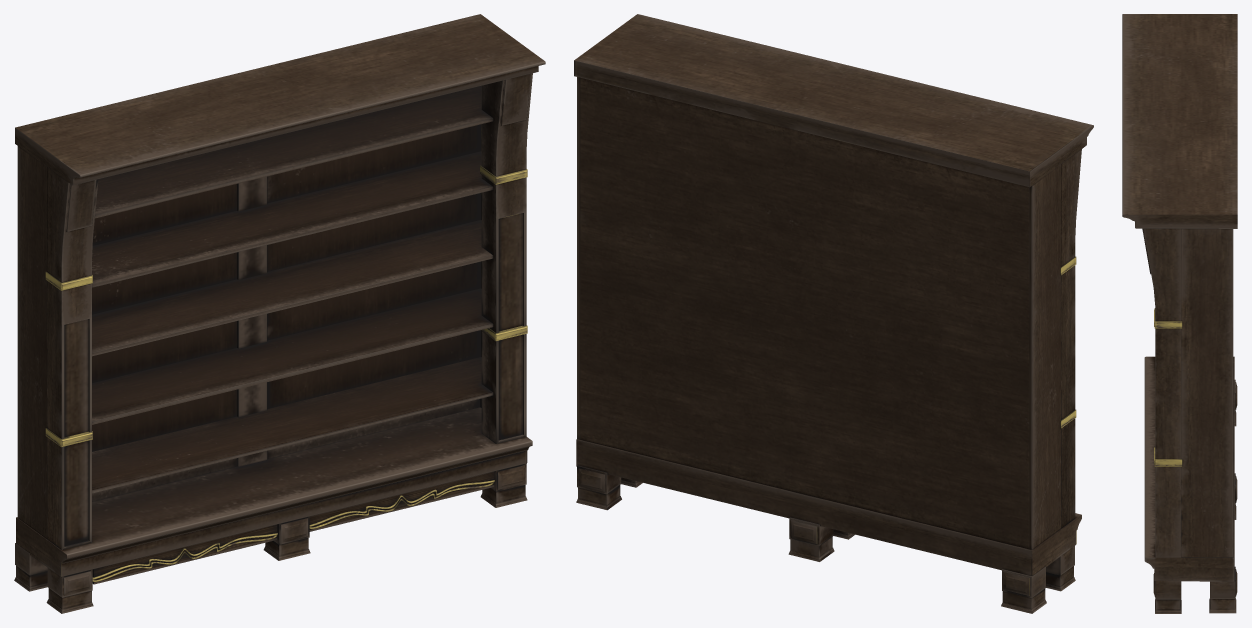
File: medieval-bookshelves.glb
3 views of the same model, side by side, from view 1: azimuth 30°, elevation 25°; view 2: azimuth 150°, elevation 25°; view 3: azimuth 270°, elevation 25° (orthographic). The views are drawn at different scales.
Parts seen in each view (by area): view 1: BookCase_Shelves, Bookcase_walls, BookCase_Top, BookCase_Base, BookCase_Beam1.002, BookCase_Beam1, Bookcase_underboard, BookCase_Legs3, BookCase_Legs, BookCase_Legs2, BookCase_legsb3, BookCase_Legs_Detail1.002 (+1 smaller); view 2: Bookcase_walls, BookCase_Top, BookCase_Base, BookCase_Beam1.002, BookCase_legsb3, BookCase_legsb2, BookCase_legsb, BookCase_Legs3; view 3: BookCase_Top, Bookcase_walls, BookCase_Beam1, BookCase_Base, BookCase_legsb, BookCase_Legs, BookCase_Beams_Detail2, BookCase_Beams_Detail1.
Part boxes in pixels (x1=…): BookCase_Shelves: x1=92, y1=86, x2=493, y2=493; Bookcase_walls: x1=17, y1=124, x2=481, y2=538; BookCase_Top: x1=15, y1=14, x2=545, y2=185; BookCase_Base: x1=16, y1=407, x2=532, y2=576; BookCase_Beam1.002: x1=47, y1=167, x2=98, y2=549; BookCase_Beam1: x1=481, y1=73, x2=532, y2=443; Bookcase_underboard: x1=92, y1=471, x2=494, y2=584; BookCase_Legs3: x1=46, y1=568, x2=93, y2=613; BookCase_Legs: x1=480, y1=463, x2=527, y2=507; BookCase_Legs2: x1=263, y1=516, x2=310, y2=560; BookCase_legsb3: x1=14, y1=543, x2=47, y2=591; BookCase_Legs_Detail1.002: x1=92, y1=480, x2=494, y2=579; Bookcase_walls: x1=577, y1=77, x2=1061, y2=549; BookCase_Top: x1=574, y1=14, x2=1093, y2=187; BookCase_Base: x1=576, y1=439, x2=1081, y2=575; BookCase_Beam1.002: x1=1061, y1=149, x2=1081, y2=528; BookCase_legsb3: x1=1001, y1=566, x2=1046, y2=613; BookCase_legsb2: x1=788, y1=517, x2=834, y2=561; BookCase_legsb: x1=576, y1=465, x2=621, y2=510; BookCase_Legs3: x1=1046, y1=546, x2=1075, y2=591; BookCase_Top: x1=1122, y1=14, x2=1237, y2=228; Bookcase_walls: x1=1181, y1=228, x2=1233, y2=557; BookCase_Beam1: x1=1142, y1=228, x2=1181, y2=557; BookCase_Base: x1=1144, y1=356, x2=1234, y2=581; BookCase_legsb: x1=1209, y1=566, x2=1237, y2=613; BookCase_Legs: x1=1153, y1=573, x2=1181, y2=613; BookCase_Beams_Detail2: x1=1154, y1=308, x2=1182, y2=328; BookCase_Beams_Detail1: x1=1154, y1=446, x2=1182, y2=466.
Size of the model in its own units: 11.69 by 10.81 by 2.83.
Materials: 1 (1 with a texture image).
